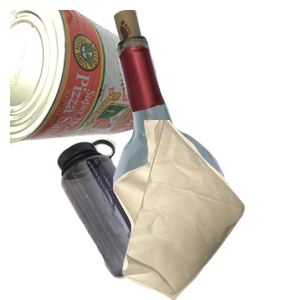glass: (89, 10, 300, 190)
metal: (10, 10, 159, 152)
plastic: (54, 136, 209, 300)
trash: (111, 120, 300, 300)
